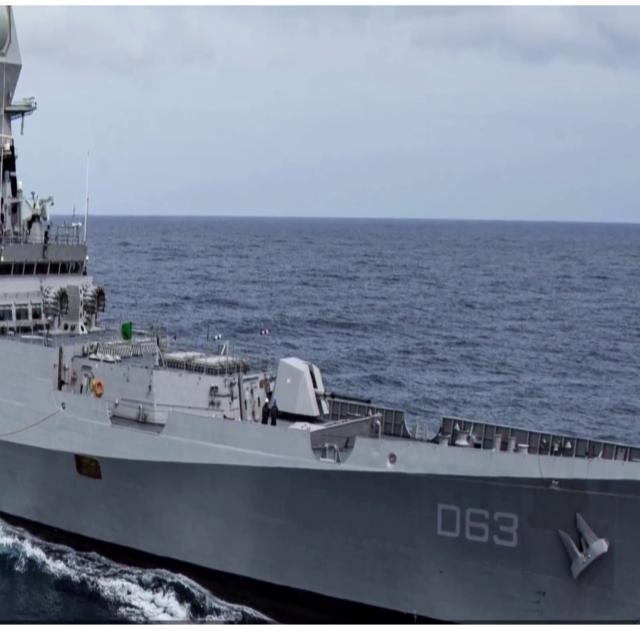OCR: (432, 500, 526, 553)
